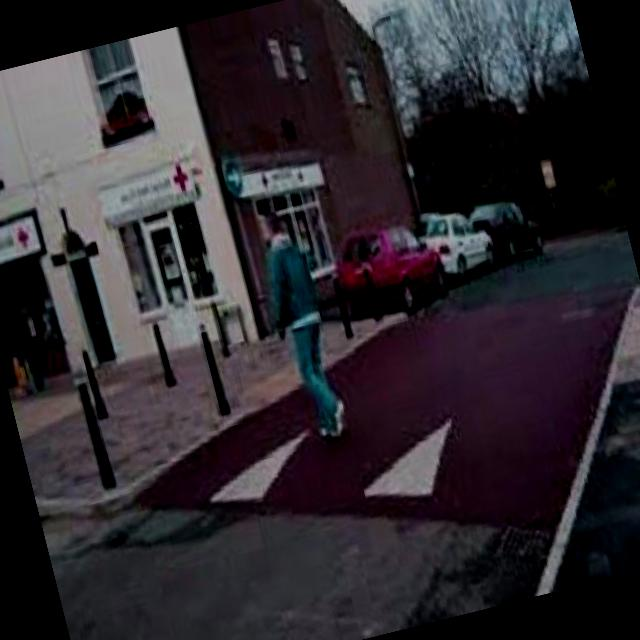Person: (238, 195, 356, 450)
